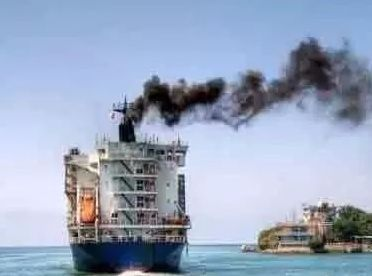smoke: (122, 40, 372, 124)
